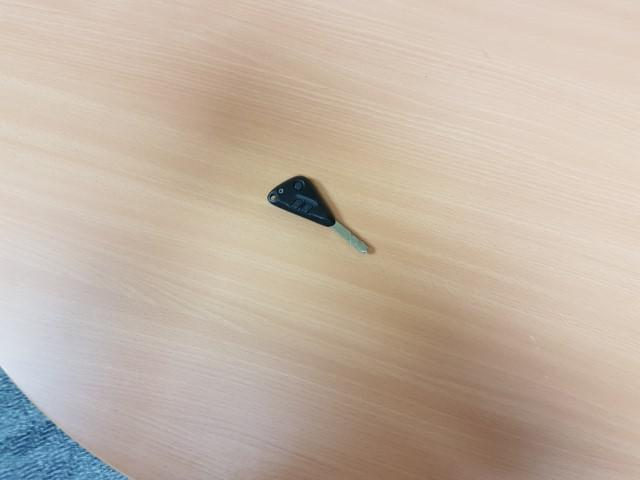key: (269, 176, 370, 253)
